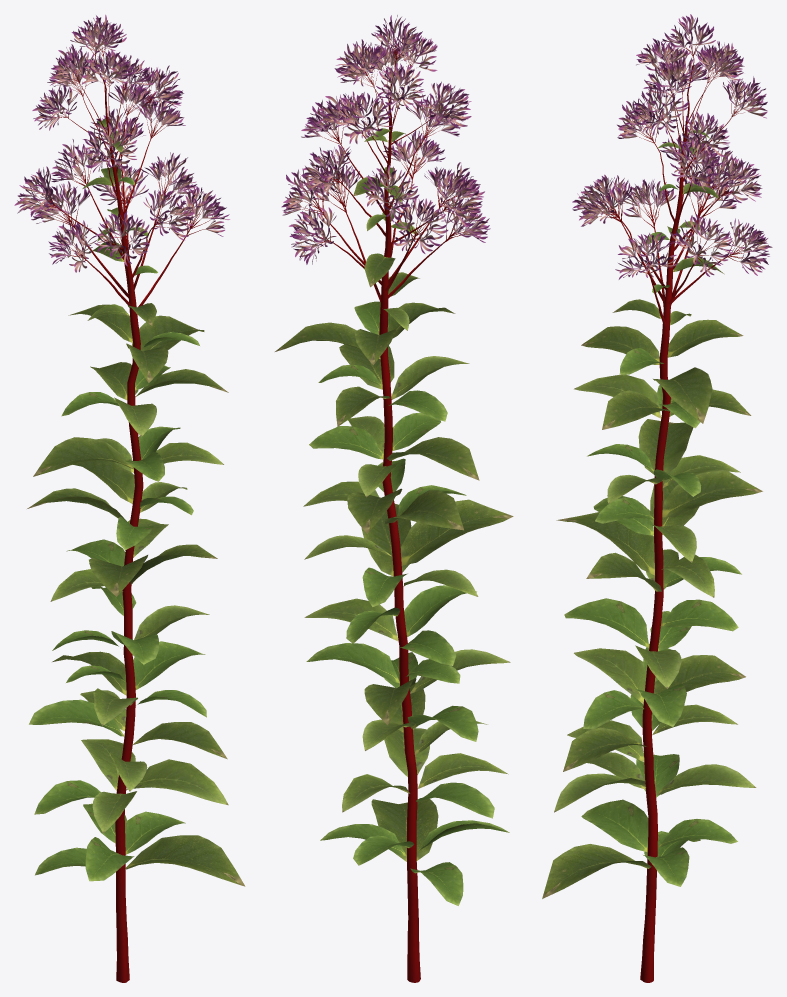
File: joepye.glb
3 views of the same model, side by side, from view 1: azimuth 30°, elevation 25°; view 2: azimuth 150°, elevation 25°; view 3: azimuth 270°, elevation 25° (orthographic). The views are drawn at different scales.
Parts seen in each view (by area): view 1: Leaf3_EupatoriumPurpureum_Mat.001, Leaf1_EupatoriumPurpureum_Mat.001, Leaf2_EupatoriumPurpureum_Mat.001, Petal1_EupatoriumPurpureum_Mat.001, Petal2_EupatoriumPurpureum_Mat.001, Stem_EupatoriumPurpureum_Mat.001; view 2: Leaf1_EupatoriumPurpureum_Mat.001, Leaf3_EupatoriumPurpureum_Mat.001, Leaf2_EupatoriumPurpureum_Mat.001, Petal1_EupatoriumPurpureum_Mat.001, Petal2_EupatoriumPurpureum_Mat.001, Stem_EupatoriumPurpureum_Mat.001; view 3: Leaf3_EupatoriumPurpureum_Mat.001, Leaf1_EupatoriumPurpureum_Mat.001, Leaf2_EupatoriumPurpureum_Mat.001, Petal1_EupatoriumPurpureum_Mat.001, Petal2_EupatoriumPurpureum_Mat.001, Stem_EupatoriumPurpureum_Mat.001.
Boxes of the visible parts, x1,y1,x2,y2 form: Leaf3_EupatoriumPurpureum_Mat.001: (27, 164, 245, 886); Leaf1_EupatoriumPurpureum_Mat.001: (29, 177, 206, 881); Leaf2_EupatoriumPurpureum_Mat.001: (50, 119, 228, 833); Petal1_EupatoriumPurpureum_Mat.001: (14, 14, 229, 272); Petal2_EupatoriumPurpureum_Mat.001: (17, 15, 229, 264); Stem_EupatoriumPurpureum_Mat.001: (35, 34, 210, 982); Leaf1_EupatoriumPurpureum_Mat.001: (306, 167, 509, 905); Leaf3_EupatoriumPurpureum_Mat.001: (275, 176, 513, 861); Leaf2_EupatoriumPurpureum_Mat.001: (303, 128, 510, 812); Petal1_EupatoriumPurpureum_Mat.001: (282, 17, 489, 261); Petal2_EupatoriumPurpureum_Mat.001: (281, 15, 490, 264); Stem_EupatoriumPurpureum_Mat.001: (302, 37, 470, 982); Leaf3_EupatoriumPurpureum_Mat.001: (542, 186, 762, 898); Leaf1_EupatoriumPurpureum_Mat.001: (564, 184, 741, 886); Leaf2_EupatoriumPurpureum_Mat.001: (554, 130, 756, 812); Petal1_EupatoriumPurpureum_Mat.001: (575, 14, 772, 277); Petal2_EupatoriumPurpureum_Mat.001: (572, 16, 769, 279); Stem_EupatoriumPurpureum_Mat.001: (593, 36, 750, 982).
Bounding box in the file's own units: 0.2399 × 1.14 × 0.2472.
6 materials, 6 textured.
